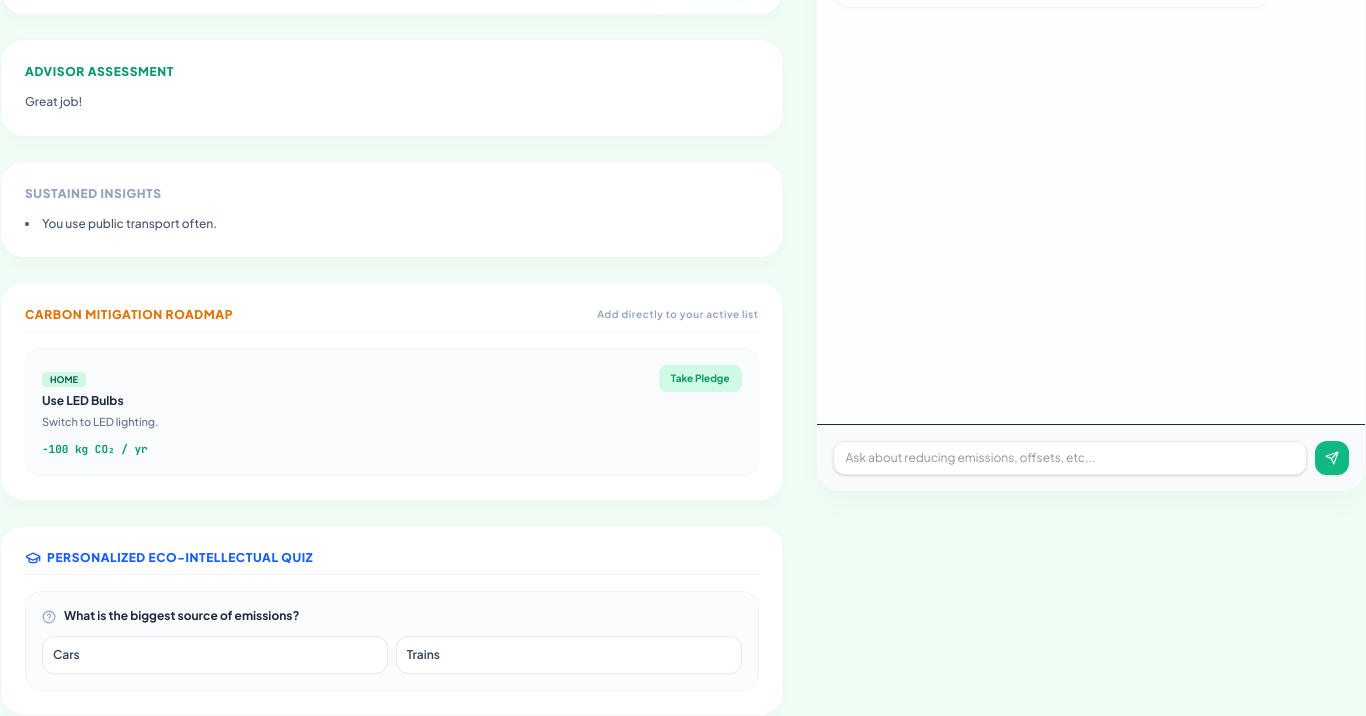
it: EcoCoach › handles quiz interactions
(page scrolled)
Click wrong answer
Click the button "Trains" at [423, 654], box [396,636,742,674]
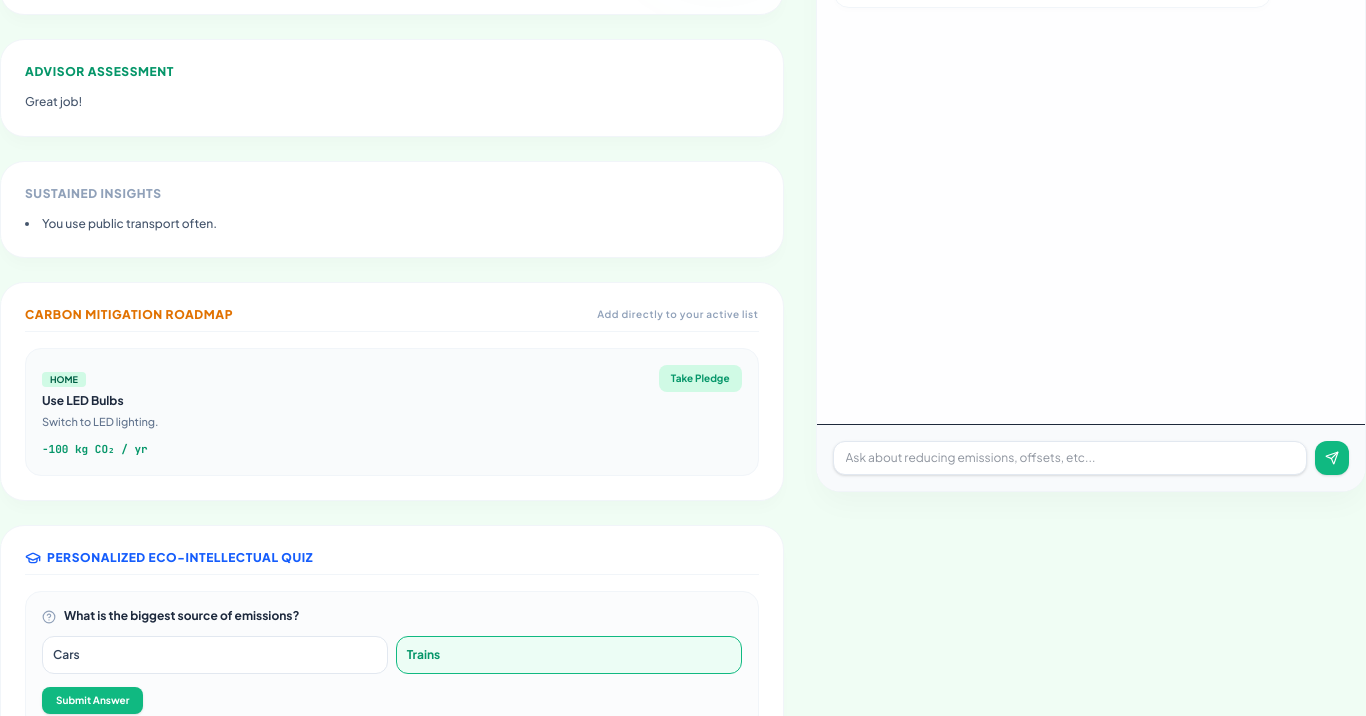
Click the button "Submit Answer" at [93, 700], box [42,687,144,714]
(page scrolled)
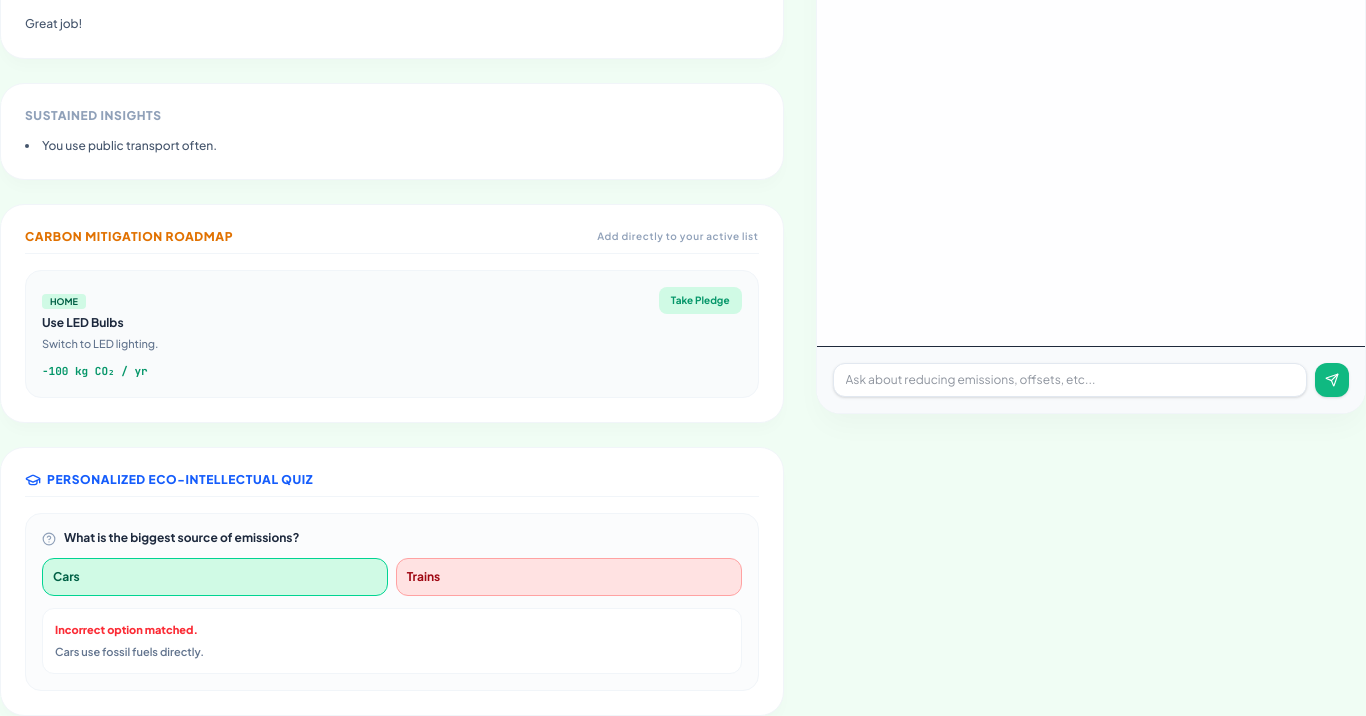
Now the text "Incorrect option matched." is shown, box [55,623,198,636]
Now the text "Cars use fossil fuels directly." is shown, box [55,645,204,658]
